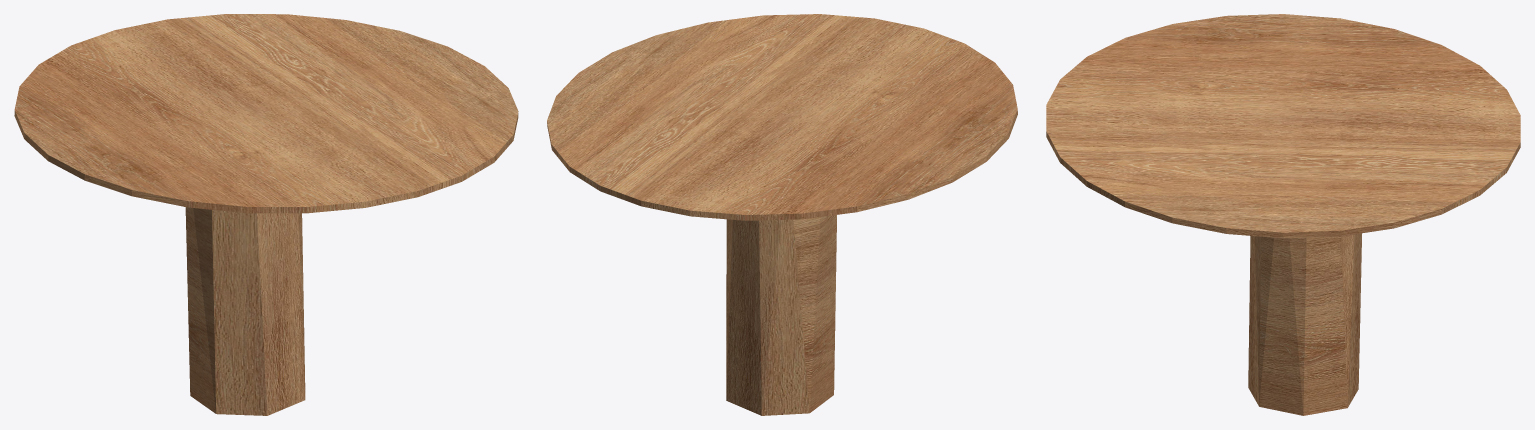
Rendered from 24066_ours.glb.
3 views of the same model, side by side, from view 1: azimuth 30°, elevation 25°; view 2: azimuth 150°, elevation 25°; view 3: azimuth 270°, elevation 25° (orthographic). The views are drawn at different scales.
Visible parts, largest first — view 1: ParentEmpty; view 2: ParentEmpty; view 3: ParentEmpty.
Boxes of the visible parts, x1,y1,x2,y2 form: ParentEmpty: (14, 14, 518, 415); ParentEmpty: (547, 14, 1017, 415); ParentEmpty: (1046, 14, 1520, 415).
Size of the model in its own units: 1 by 0.6568 by 0.993.
1 material, 1 textured.
